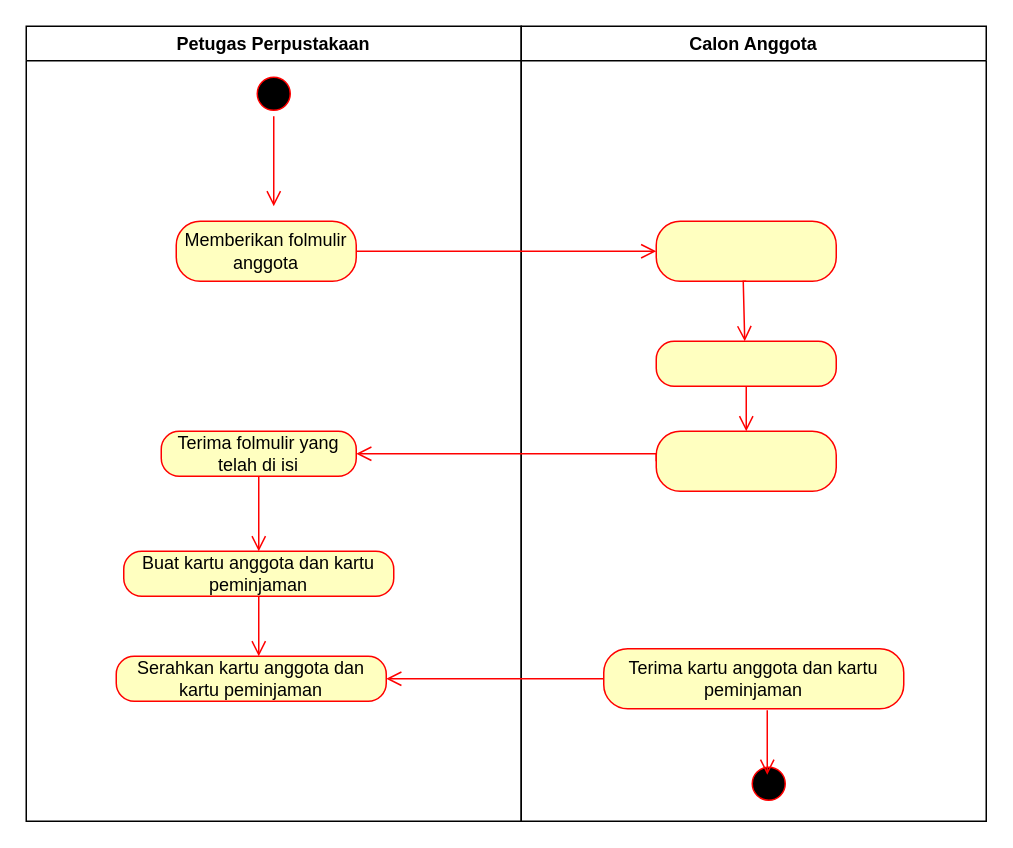
Image size: 1013x848. Some labels were removed from this diagram. The shapes that lost their labels are listed below. From the top down, each one's centre as x and y in pixels, then its label:
At point (745, 250): "Terima folmulir anggota".
At point (745, 363): "isi folmulir anggota".
At point (745, 460): "Serahkan folmulir anggota".
